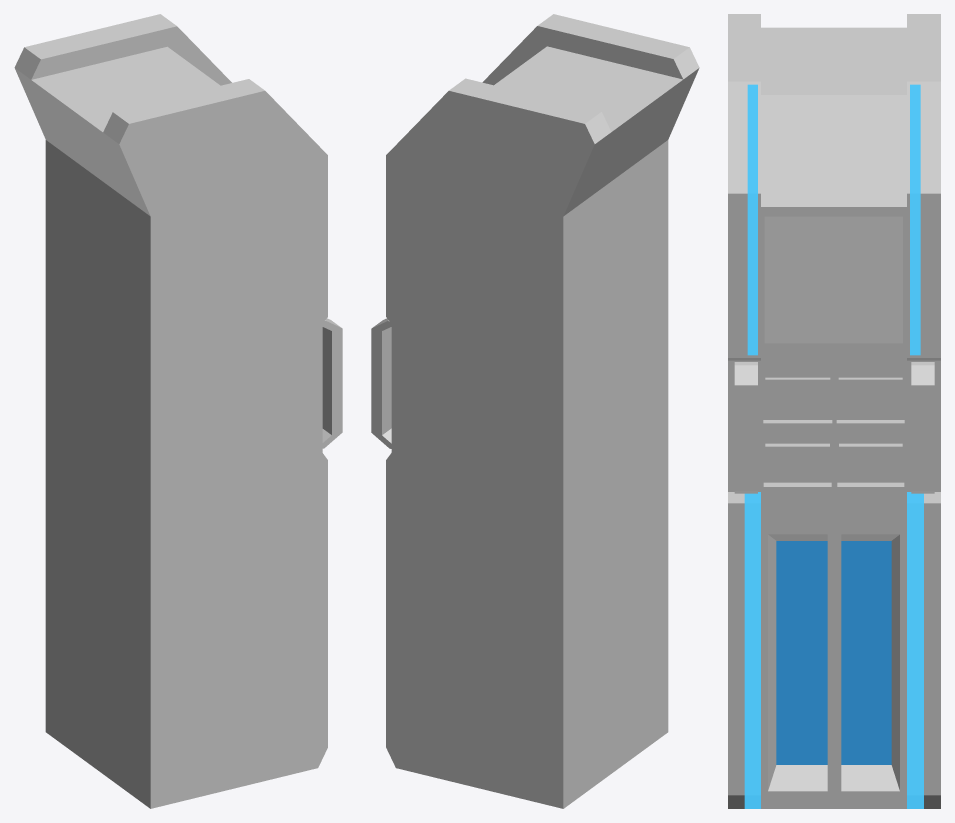
File: DeviceWalls.fbx
3 views of the same model, side by side, from view 1: azimuth 30°, elevation 25°; view 2: azimuth 150°, elevation 25°; view 3: azimuth 270°, elevation 25° (orthographic).
Visible parts, largest first — view 1: devicewalls; view 2: devicewalls; view 3: devicewalls.
Boxes of the visible parts, <box> form: devicewalls: <box>14,14,342,808</box>; devicewalls: <box>371,14,699,808</box>; devicewalls: <box>728,14,940,808</box>.
Bounding box in the file's own units: 81.09 × 236 × 65.
